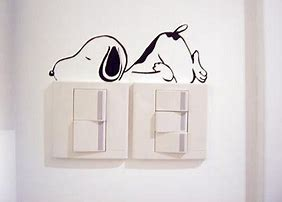switch: (71, 87, 107, 122), (70, 120, 108, 152), (155, 88, 190, 112), (154, 131, 189, 152), (154, 111, 189, 131)
